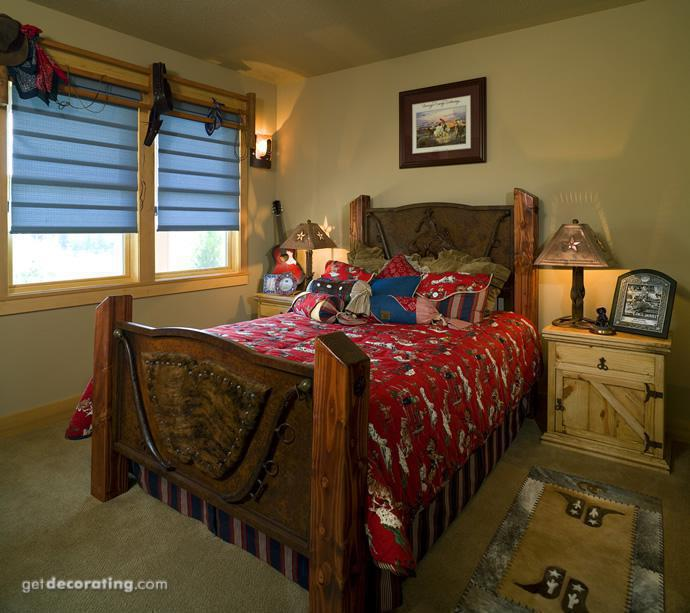Cama: (102, 242, 512, 492), (12, 60, 239, 287)
